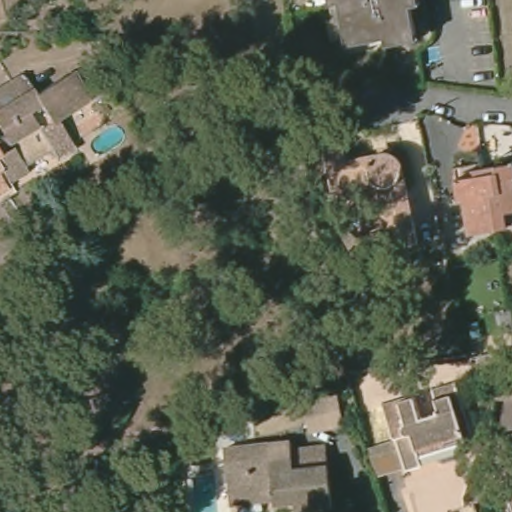pool: (85, 120, 127, 158)
